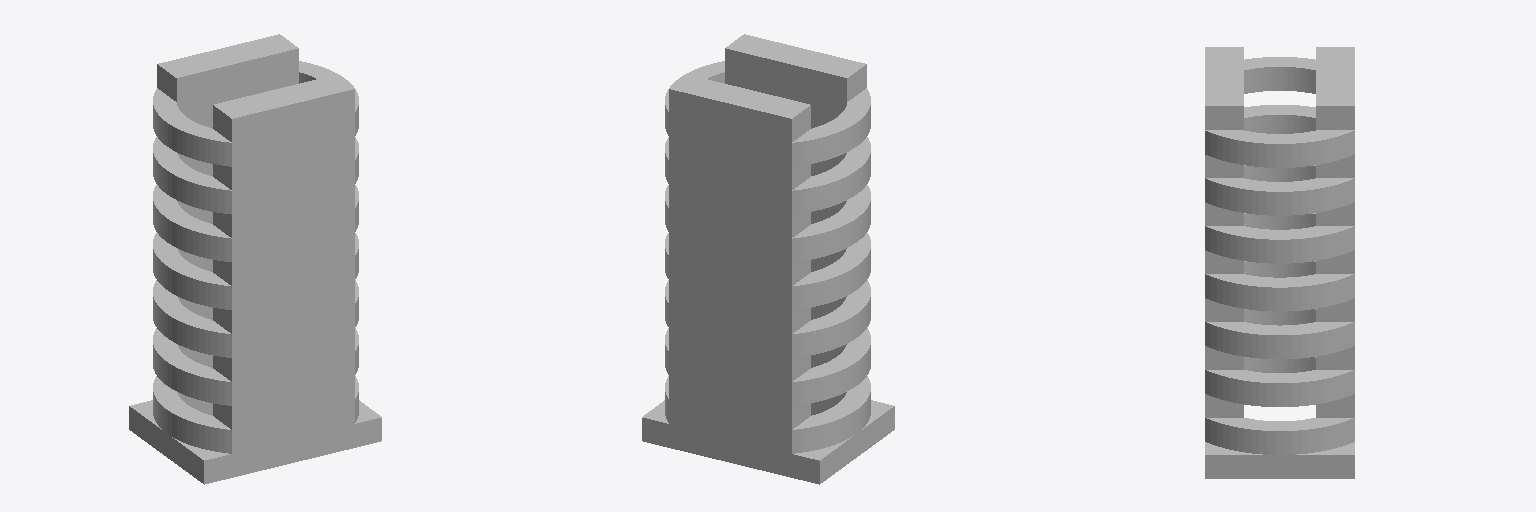
File: building9.obj
The picture shows the model from 3 angles: view 1: azimuth 30°, elevation 25°; view 2: azimuth 150°, elevation 25°; view 3: azimuth 270°, elevation 25°; orthographic projection.
Parts seen in each view (by area): view 1: Cube_Cube.001; view 2: Cube_Cube.001; view 3: Cube_Cube.001.
Part boxes in pixels (bbox=[...]): Cube_Cube.001: bbox=[129, 34, 381, 484]; Cube_Cube.001: bbox=[642, 34, 894, 484]; Cube_Cube.001: bbox=[1205, 47, 1354, 478].
Size of the model in its own units: 2.91 by 5.59 by 2.12.